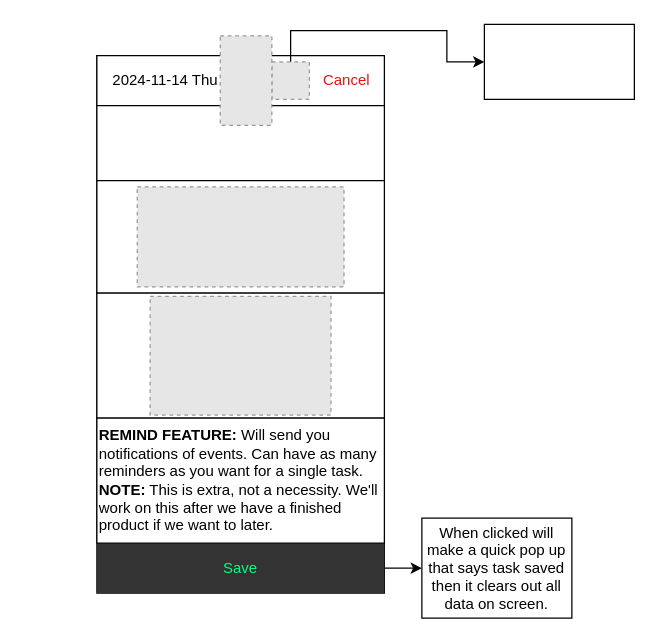
Some shapes in this 656 by 640 pixel diagram are drawn without their labels. Grey dashed boxes stand in for pictures. Here are the shapes that lost their labels. From the top down, the centre of each, then its label:
At point (558, 61): "This icon will look different based on the view your in.".
At point (240, 142): "Task: Go for a walk".
